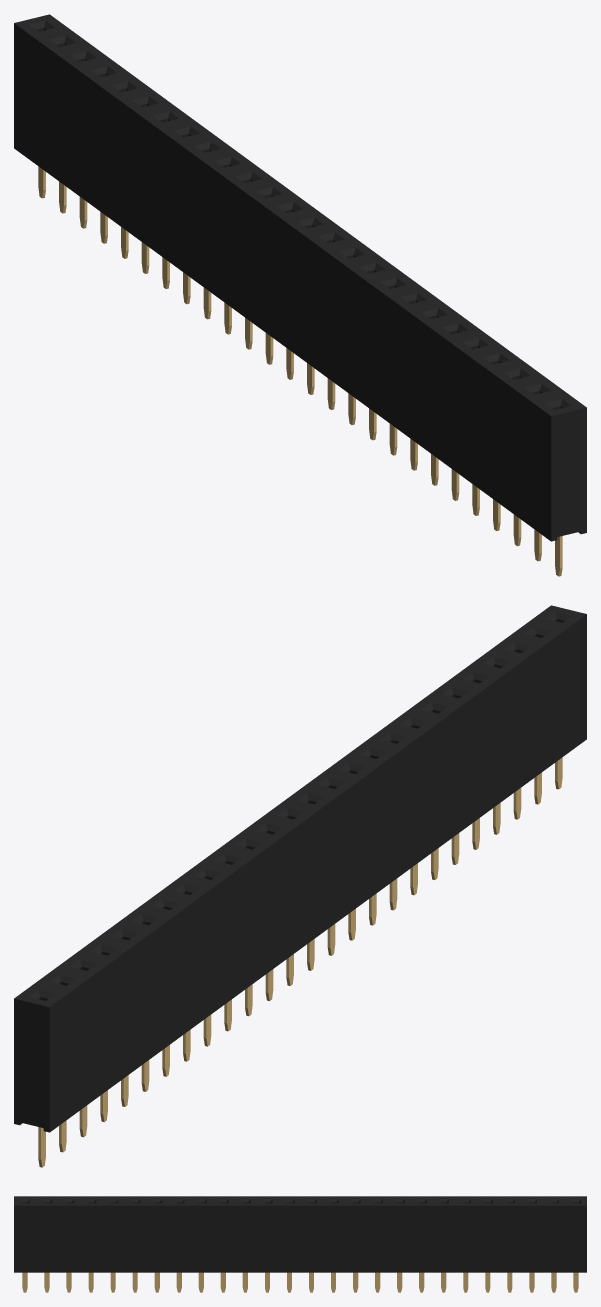
Rendered from kc-pinsocket_1x26_p2.54mm_vertical.glb.
3 views of the same model, one above another, from view 1: azimuth 30°, elevation 25°; view 2: azimuth 150°, elevation 25°; view 3: azimuth 270°, elevation 25° (orthographic). The views are drawn at different scales.
Visible parts, largest first — view 1: 0_0_0_0, 0.75_0.5_0.25_0.9; view 2: 0_0_0_0, 0.75_0.5_0.25_0.9; view 3: 0_0_0_0, 0.75_0.5_0.25_0.9.
Part boxes in pixels (bbox=[...]): 0_0_0_0: bbox=[14, 14, 586, 541]; 0.75_0.5_0.25_0.9: bbox=[38, 166, 562, 576]; 0_0_0_0: bbox=[14, 605, 586, 1132]; 0.75_0.5_0.25_0.9: bbox=[38, 757, 562, 1167]; 0_0_0_0: bbox=[14, 1196, 586, 1272]; 0.75_0.5_0.25_0.9: bbox=[22, 1272, 578, 1292].
Size of the model in its own units: 0.2539 by 1.16 by 6.6.
